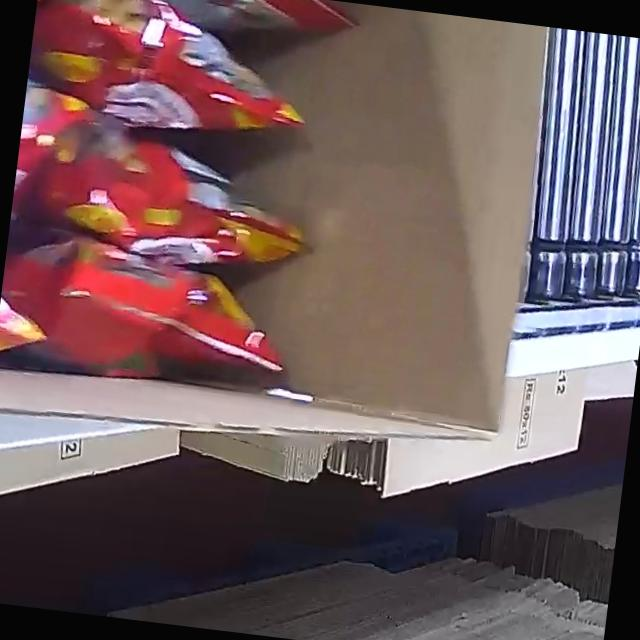masala: (0, 0, 359, 409)
